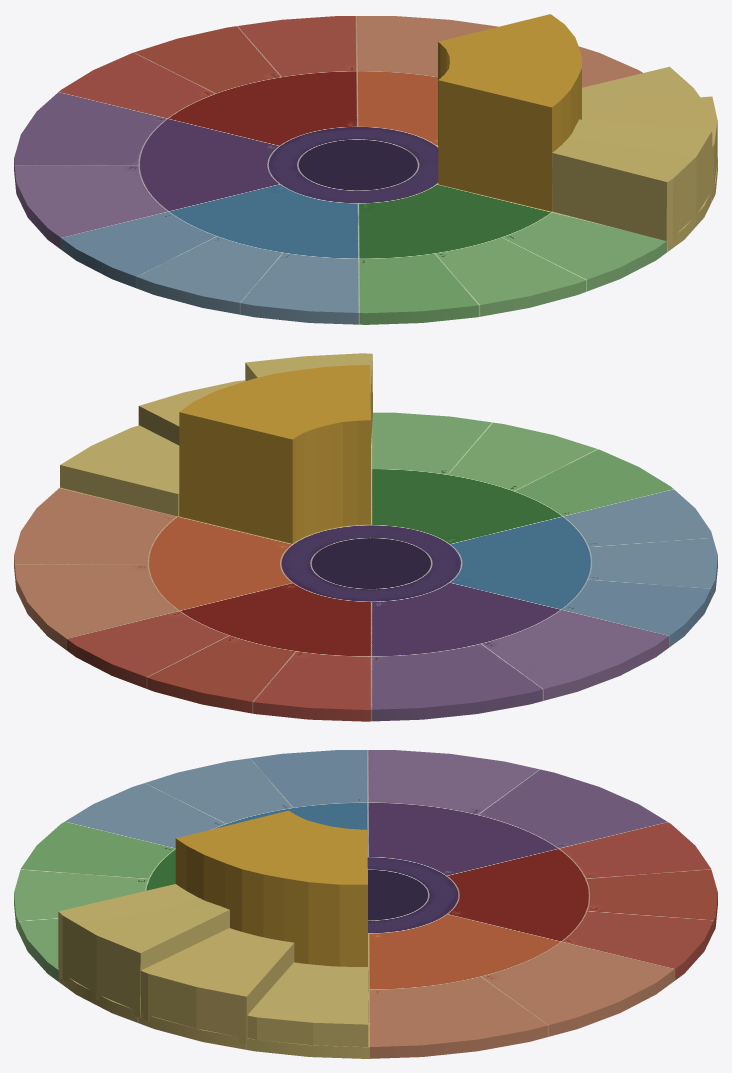
The picture shows the model from 3 angles, top to bottom: view 1: azimuth 30°, elevation 25°; view 2: azimuth 150°, elevation 25°; view 3: azimuth 270°, elevation 25°; orthographic projection.
Parts seen in each view (by area): view 1: Object_2; view 2: Object_2; view 3: Object_2.
Part boxes in pixels (box(x1,y1,x2,y2)): Object_2: box(14, 14, 717, 324); Object_2: box(14, 353, 717, 721); Object_2: box(14, 750, 717, 1058).
Size of the model in its own units: 20.46 by 3.72 by 20.47.
Materials: 1 (1 with a texture image).
